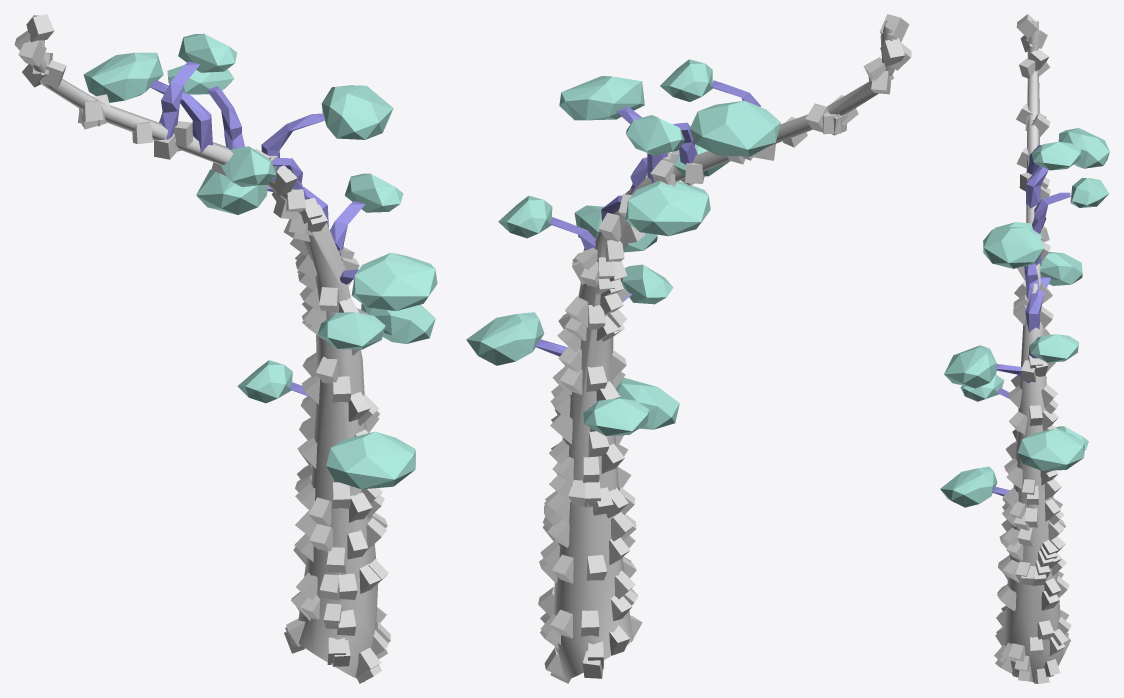
File: geometry_nodes_trees.fbx
3 views of the same model, side by side, from view 1: azimuth 30°, elevation 25°; view 2: azimuth 150°, elevation 25°; view 3: azimuth 270°, elevation 25° (orthographic). The views are drawn at different scales.
Visible parts, largest first — view 1: Geometree_01; view 2: Geometree_01; view 3: Geometree_01.
Boxes of the visible parts, x1,y1,x2,y2 form: Geometree_01: [14, 14, 437, 683]; Geometree_01: [466, 14, 911, 683]; Geometree_01: [940, 14, 1109, 683].
Size of the model in its own units: 479 by 800 by 224.
